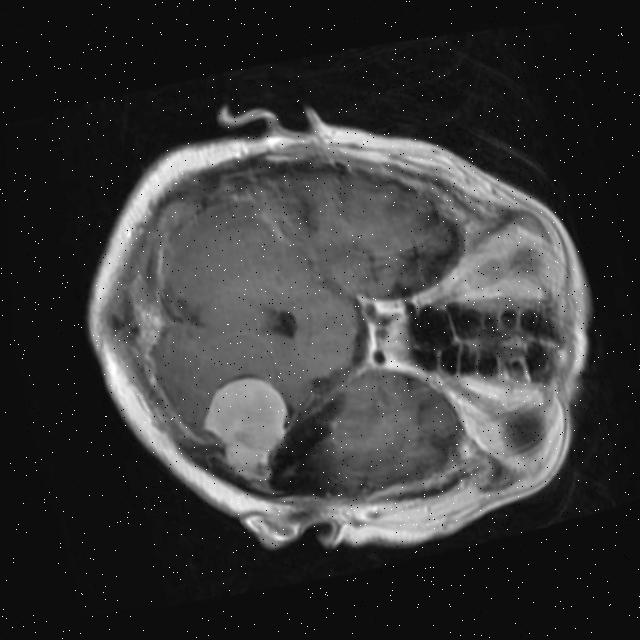Meningioma: (192, 370, 304, 492)
